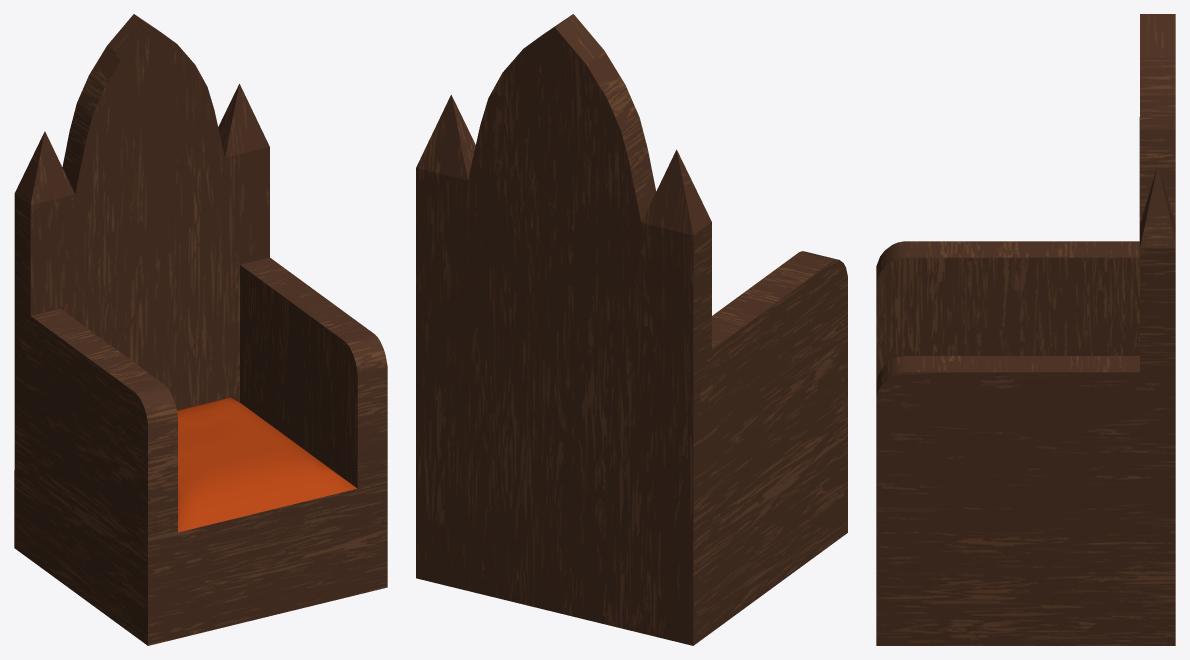
Rendered from Trono.fbx.
3 renders of one model, left to right at view 1: azimuth 30°, elevation 25°; view 2: azimuth 150°, elevation 25°; view 3: azimuth 270°, elevation 25°, orthographic. The views are drawn at different scales.
Parts seen in each view (by area): view 1: Box001; view 2: Box001; view 3: Box001.
Part boxes in pixels (left/top/right/bottom): Box001: left=14, top=14, right=387, bottom=645; Box001: left=416, top=14, right=847, bottom=645; Box001: left=876, top=14, right=1175, bottom=645.
Bounding box in the file's own units: 0.508 × 1.02 × 0.4907.
1 material, 1 textured.
